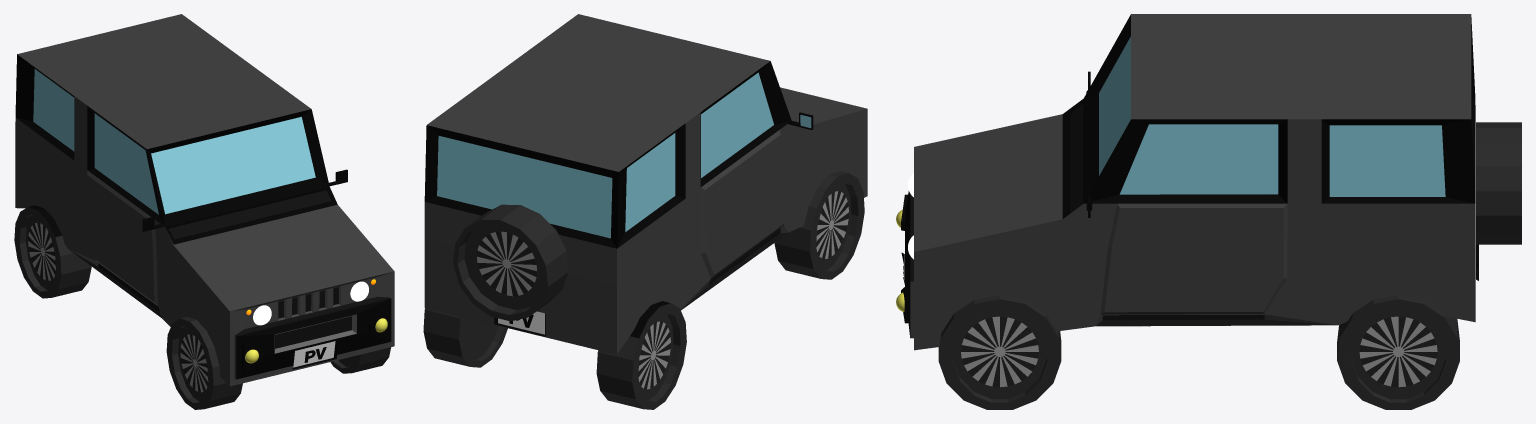
The model's file is jimny.glb.
3 renders of one model, left to right at view 1: azimuth 30°, elevation 25°; view 2: azimuth 150°, elevation 25°; view 3: azimuth 270°, elevation 25°, orthographic. The views are drawn at different scales.
Parts seen in each view (by area): view 1: JIMNY, wheel_fr, wheel_rr, wheel_fl; view 2: JIMNY, wheel_fr, wheel_rr, wheel_rl; view 3: JIMNY, wheel_fl, wheel_rl.
Part boxes in pixels (box(x1,y1,x2,y2)): JIMNY: box(15, 14, 394, 386); wheel_fr: box(166, 317, 242, 409); wheel_rr: box(14, 205, 62, 298); wheel_fl: box(325, 291, 390, 373); JIMNY: box(424, 14, 867, 384); wheel_fr: box(774, 171, 864, 279); wheel_rr: box(596, 301, 680, 409); wheel_rl: box(423, 308, 504, 367); JIMNY: box(896, 14, 1521, 400); wheel_fl: box(938, 295, 1061, 409); wheel_rl: box(1351, 295, 1459, 409).
Size of the model in its own units: 1.72 by 1.76 by 3.48.
